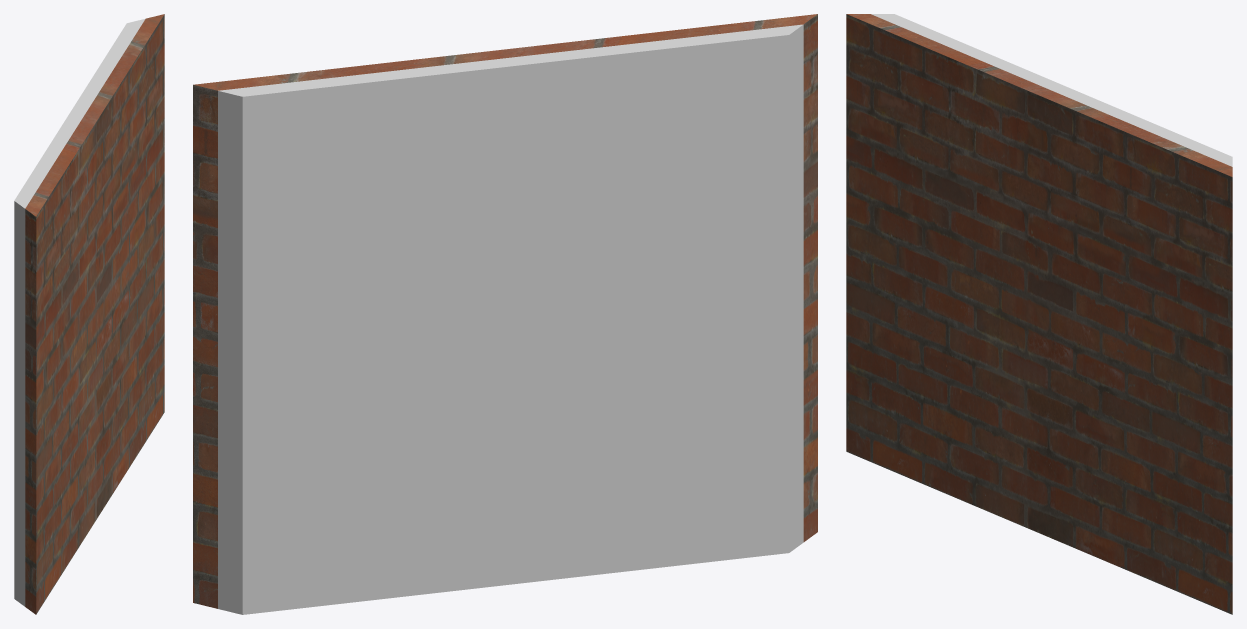
File: Diagonal_Wall.fbx
3 renders of one model, left to right at view 1: azimuth 30°, elevation 25°; view 2: azimuth 150°, elevation 25°; view 3: azimuth 270°, elevation 25°, orthographic. The views are drawn at different scales.
Parts seen in each view (by area): view 1: Diagonal Wall; view 2: Diagonal Wall; view 3: Diagonal Wall.
Boxes of the visible parts, x1,y1,x2,y2 form: Diagonal Wall: [14, 14, 164, 614]; Diagonal Wall: [193, 14, 817, 614]; Diagonal Wall: [846, 14, 1232, 614].
Size of the model in its own units: 400 by 500 by 400.
